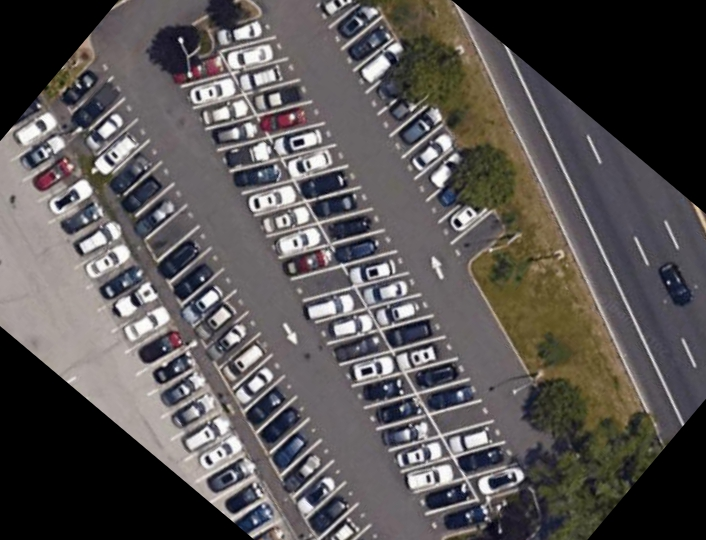parkingspot: (154, 11, 538, 540), (54, 46, 383, 540), (0, 93, 298, 540), (310, 0, 509, 272)
